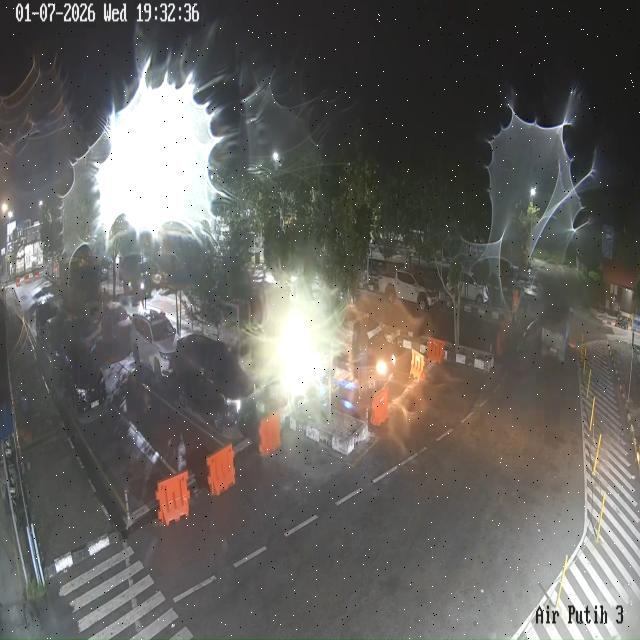Golongan IVA: (173, 334, 255, 433), (58, 336, 107, 414), (131, 309, 178, 379), (96, 302, 132, 364)
Golongan IVB: (378, 270, 438, 311), (536, 297, 573, 363)
